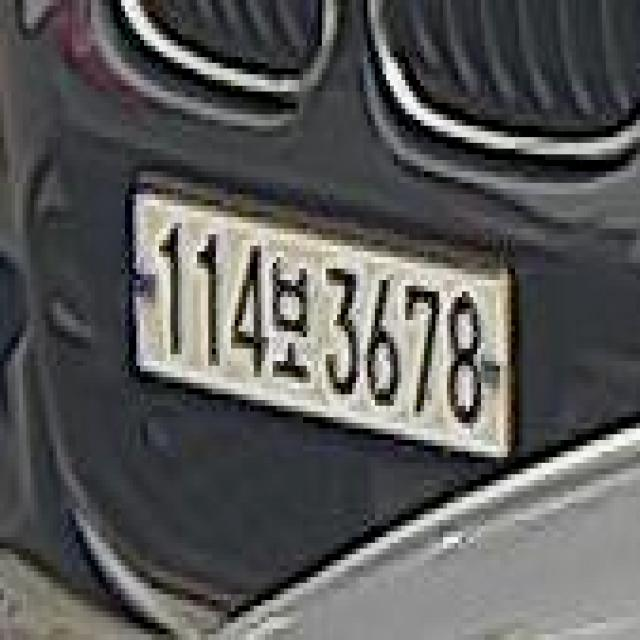illegal_plate: (130, 169, 515, 473)
